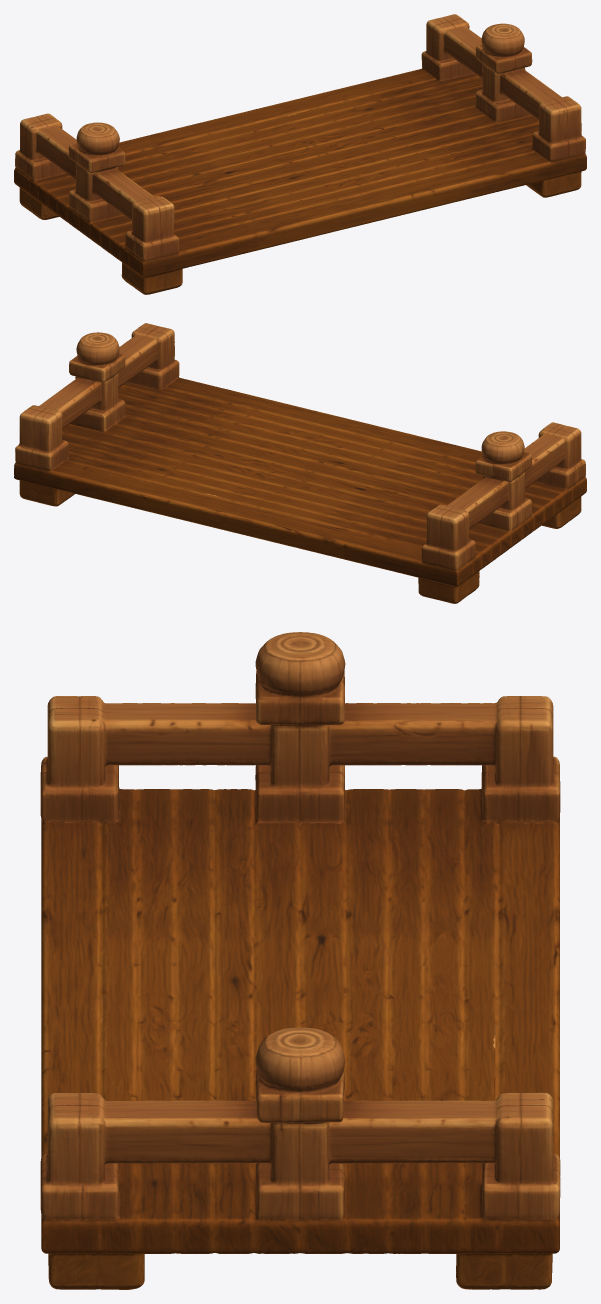
The model's file is bridge_span.glb.
The picture shows the model from 3 angles, top to bottom: view 1: azimuth 30°, elevation 25°; view 2: azimuth 150°, elevation 25°; view 3: azimuth 270°, elevation 25°; orthographic projection. The views are drawn at different scales.
Size of the model in its own units: 1 by 0.2553 by 0.5072.
Materials: 1 (1 with a texture image).
